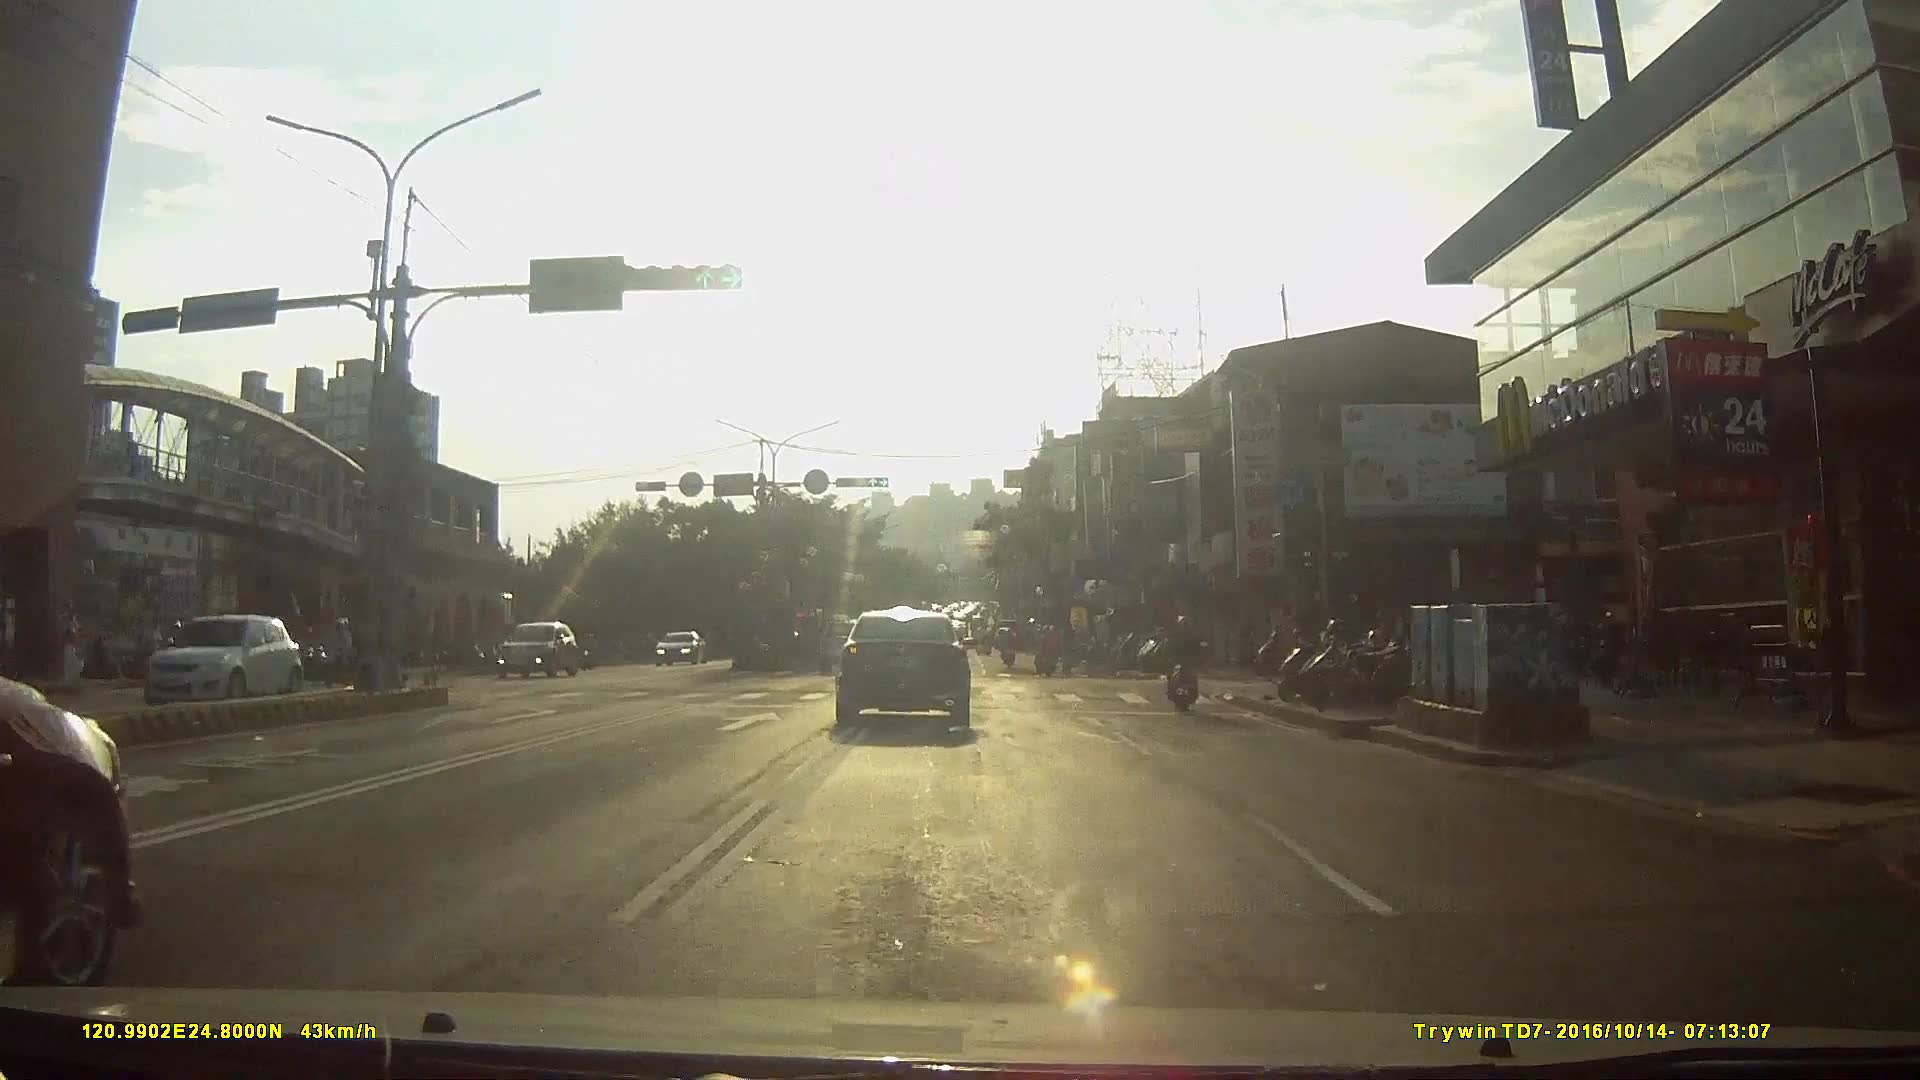rider: (1167, 611, 1208, 715), (159, 626, 217, 691), (315, 616, 365, 688), (1034, 627, 1062, 681), (997, 626, 1019, 668)
vehicle: (832, 608, 982, 743), (125, 610, 307, 721), (497, 622, 581, 681), (817, 620, 876, 675), (655, 629, 708, 668)
